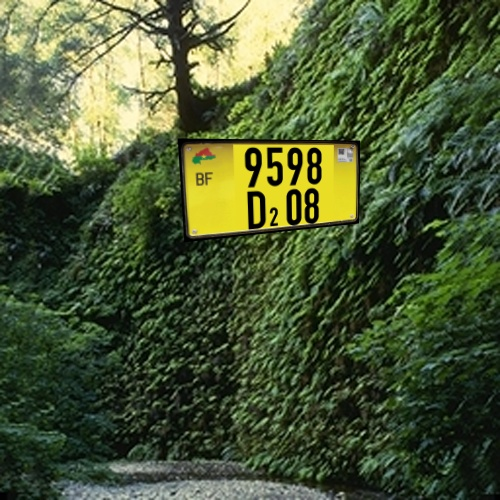plate: (165, 123, 369, 248)
